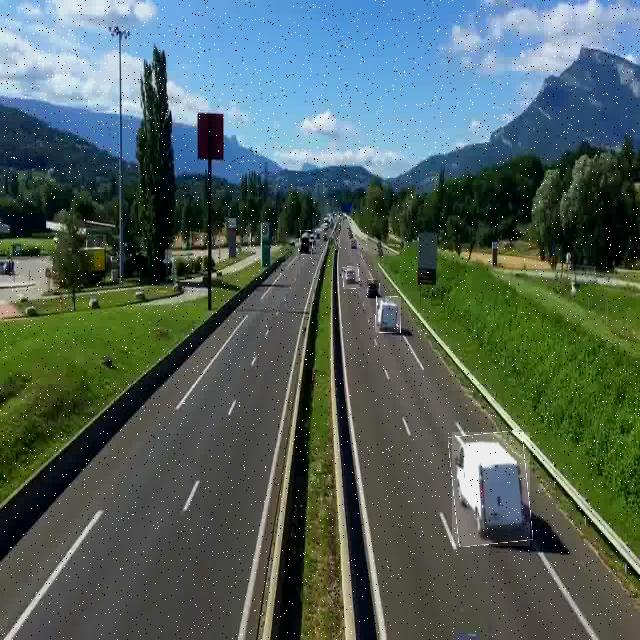Car: (452, 432, 530, 546), (376, 297, 401, 333), (343, 267, 359, 289), (367, 279, 380, 298)
Truck: (298, 231, 313, 255)
